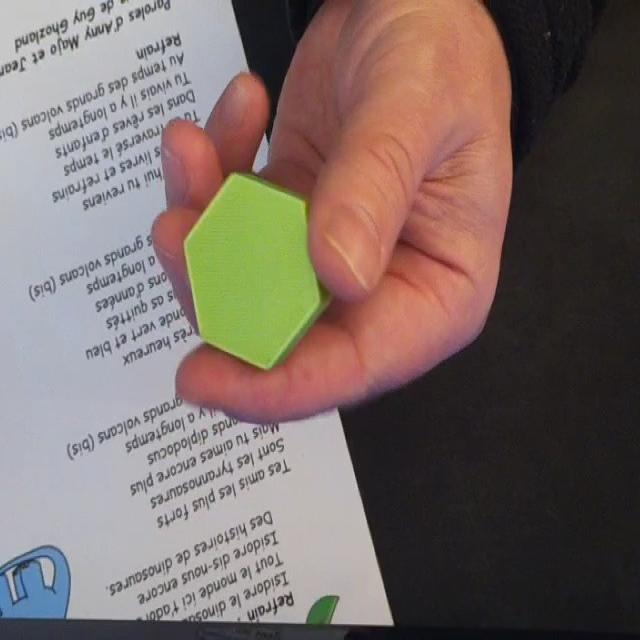hexagon: (183, 169, 327, 373)
